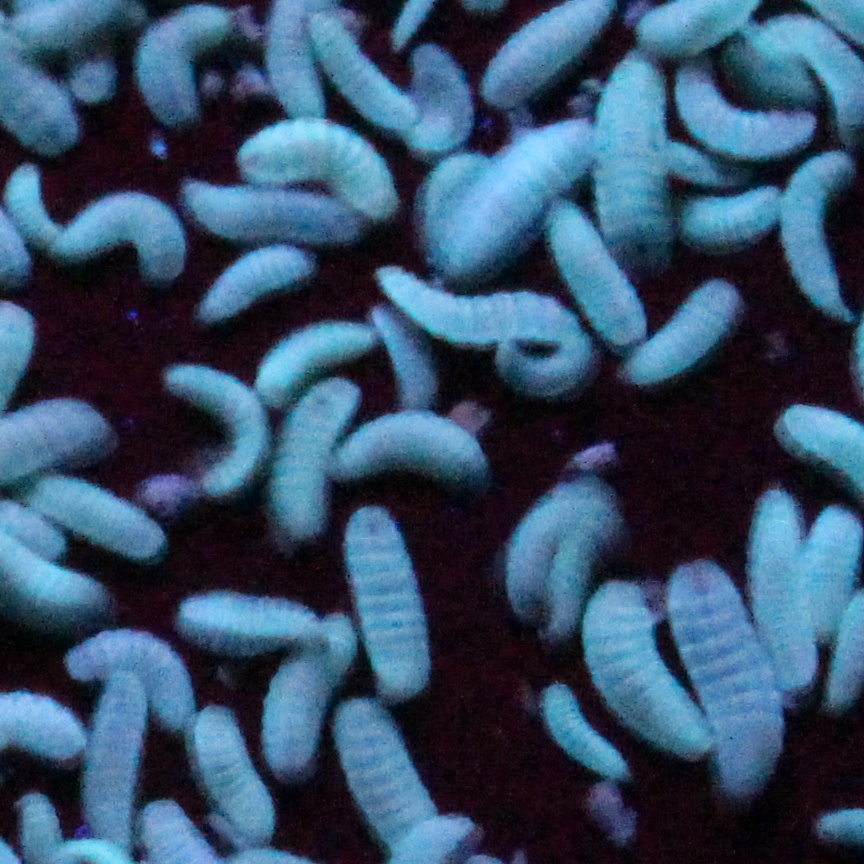larve: (666, 546, 788, 799), (441, 117, 606, 266), (581, 566, 708, 757), (588, 34, 685, 266), (337, 504, 439, 697), (326, 694, 445, 857), (232, 117, 405, 223), (537, 197, 652, 348), (370, 266, 586, 344), (154, 355, 270, 497), (272, 370, 363, 535), (66, 621, 197, 732), (750, 481, 815, 701), (175, 704, 279, 832), (303, 14, 421, 126), (623, 279, 754, 377), (21, 472, 161, 561), (134, 1, 235, 123), (783, 143, 852, 319), (675, 63, 803, 157), (181, 175, 363, 241), (263, 624, 339, 777), (83, 675, 145, 854), (332, 414, 492, 483), (177, 586, 326, 659), (59, 194, 188, 277), (528, 683, 630, 786), (390, 41, 472, 157), (261, 317, 365, 397), (203, 244, 315, 317), (668, 183, 783, 252), (3, 155, 75, 257), (545, 510, 595, 652), (368, 303, 435, 403), (503, 499, 561, 608), (499, 335, 597, 390)
